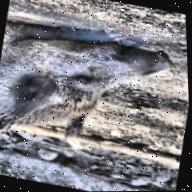boar: (0, 10, 182, 174)
